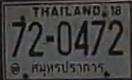0: (56, 20, 71, 55)
2: (27, 21, 42, 56), (108, 19, 122, 55)
4: (74, 19, 88, 55)
7: (91, 19, 105, 55), (11, 21, 25, 56)
SPK: (29, 59, 107, 78)
